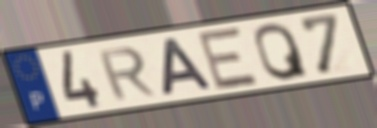4: (62, 49, 103, 111)
7: (296, 13, 345, 78)
A: (159, 35, 217, 98)
E: (196, 25, 262, 93)
Q: (252, 20, 311, 83)
R: (94, 44, 159, 103)
